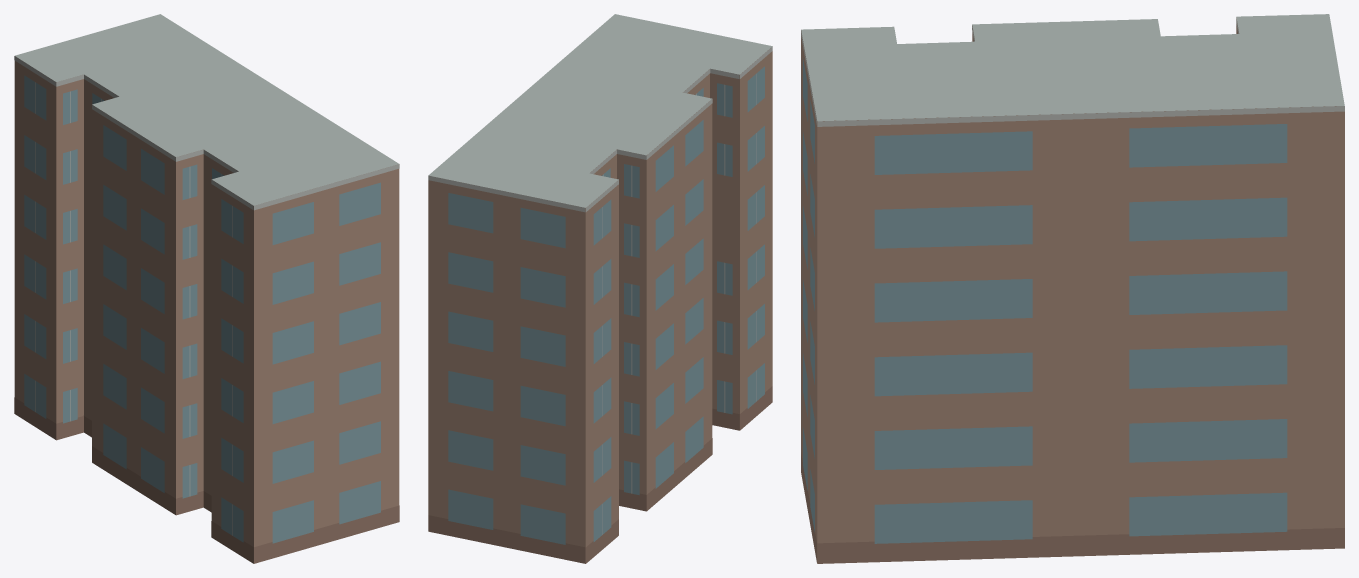
The model's file is survey-upis-32567471.glb.
The picture shows the model from 3 angles, left to right: view 1: azimuth 30°, elevation 25°; view 2: azimuth 150°, elevation 25°; view 3: azimuth 270°, elevation 25°; orthographic projection. The views are drawn at different scales.
Visible parts, largest first — view 1: survey-upis-32567471.tmp; view 2: survey-upis-32567471.tmp; view 3: survey-upis-32567471.tmp.
Part boxes in pixels (left/top/right/bottom): survey-upis-32567471.tmp: left=14, top=14, right=399, bottom=563; survey-upis-32567471.tmp: left=428, top=14, right=772, bottom=563; survey-upis-32567471.tmp: left=801, top=14, right=1344, bottom=563.
Bounding box in the file's own units: 9.89 × 19 × 21.16.
